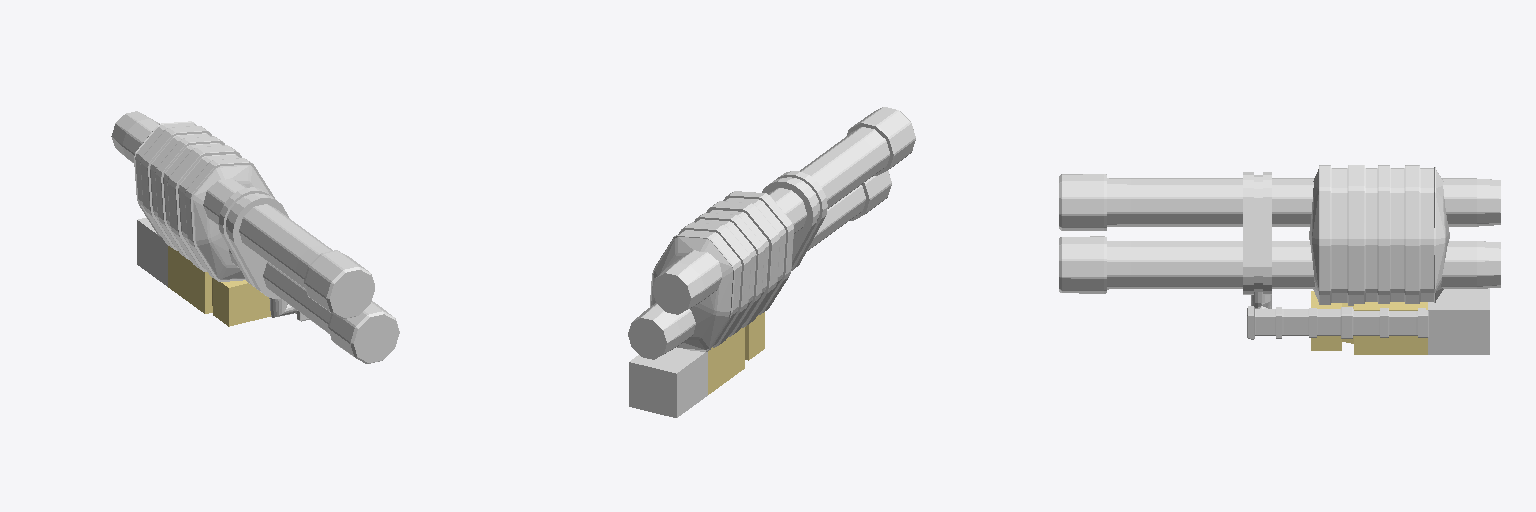
3 renders of one model, left to right at view 1: azimuth 30°, elevation 25°; view 2: azimuth 150°, elevation 25°; view 3: azimuth 270°, elevation 25°, orthographic.
Visible parts, largest first — view 1: user defined4, cube5; view 2: user defined4, cube5; view 3: user defined4, cube5.
Part boxes in pixels (left/top/right/bottom): user defined4: left=111, top=111, right=399, bottom=363; cube5: left=137, top=217, right=270, bottom=326; user defined4: left=628, top=107, right=915, bottom=359; cube5: left=629, top=312, right=764, bottom=417; user defined4: left=1059, top=165, right=1500, bottom=339; cube5: left=1311, top=288, right=1489, bottom=354.
Size of the model in its own units: 15.6 by 26.35 by 64.36.
2 materials, 2 textured.